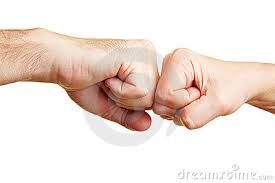fist: (68, 33, 156, 122), (167, 47, 248, 129)
